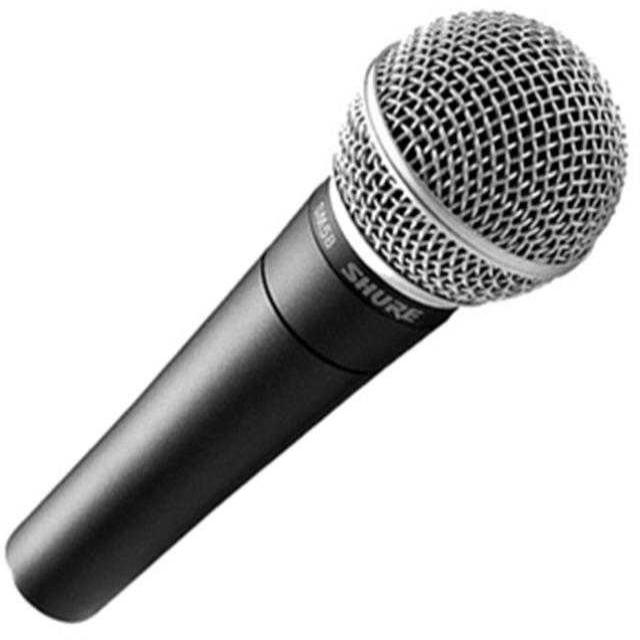microphone: (13, 8, 620, 622)
